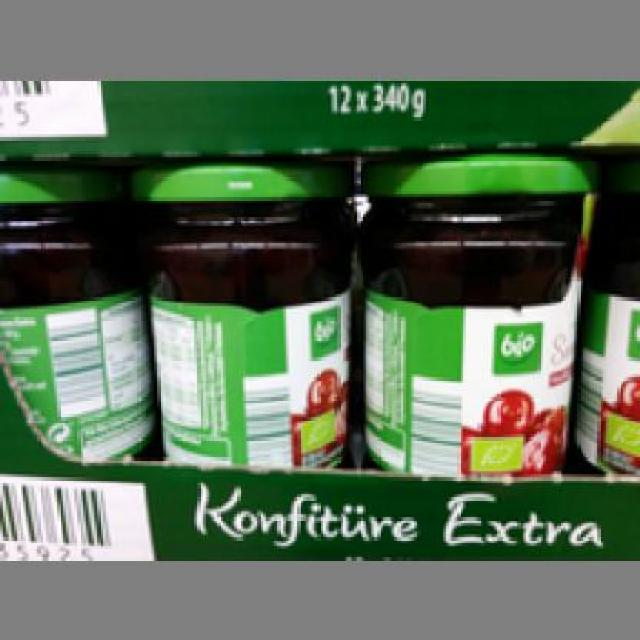Jam: (354, 148, 594, 474), (128, 157, 354, 463), (0, 164, 152, 458)
